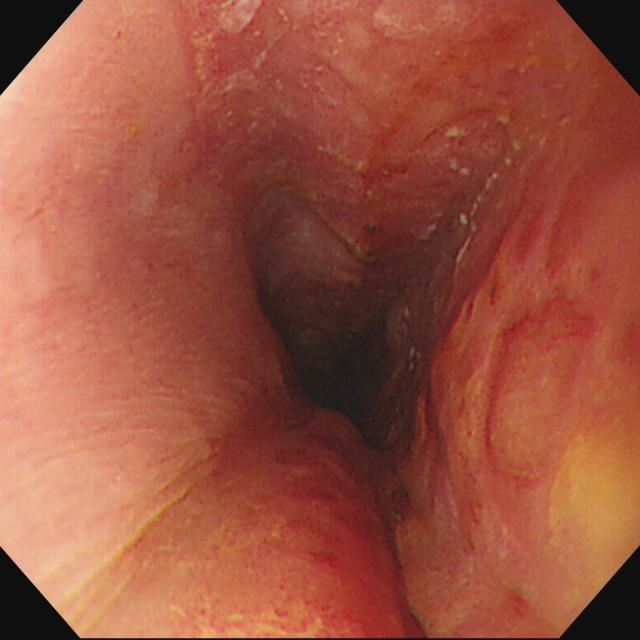A: (368, 352, 481, 640), (243, 405, 363, 633), (485, 298, 607, 490), (290, 126, 446, 264)
D: (467, 285, 505, 319)
E: (317, 318, 390, 406)
J: (192, 2, 290, 109), (292, 2, 368, 119), (370, 2, 483, 44), (453, 214, 478, 278), (446, 127, 472, 175), (471, 174, 501, 213)
